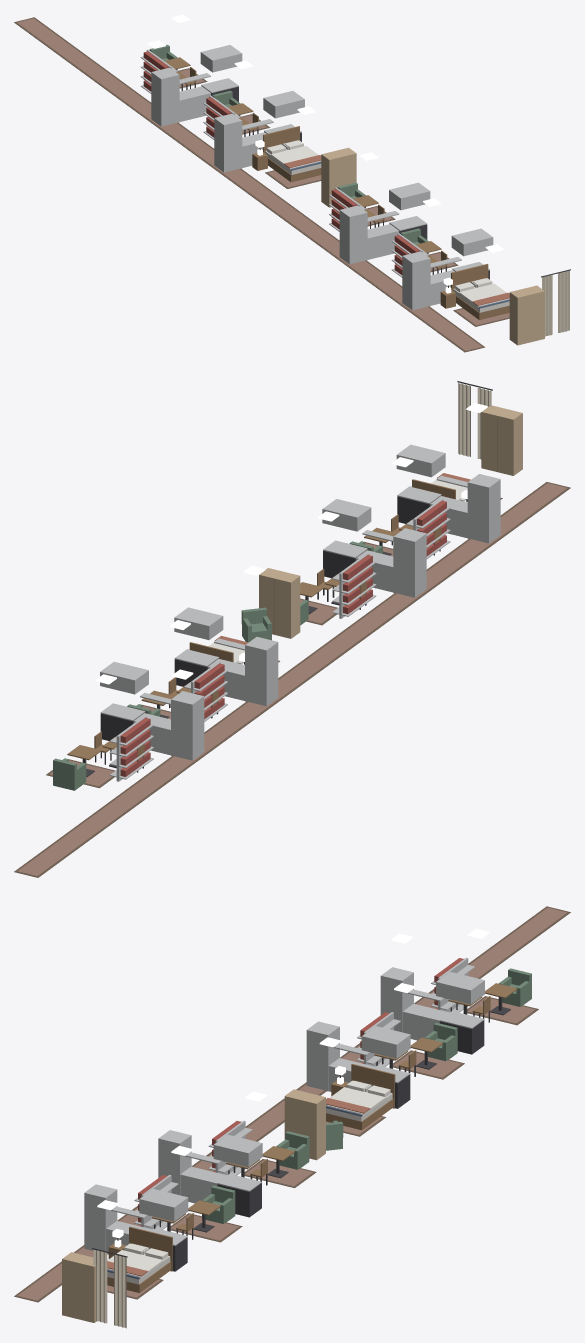
File: fine-s4.glb
3 views of the same model, one above another, from view 1: azimuth 30°, elevation 25°; view 2: azimuth 150°, elevation 25°; view 3: azimuth 330°, elevation 25° (orthographic). The views are drawn at different scales.
Parts seen in each view (by area): view 1: soft-s4, dresser.011, fridge.009, fridge.010, fridge.011, fridge.008, dresser.010, bed-frame.011, range.008, range.010, bed-frame.010, kitchen-counter.010 (+9 smaller); view 2: soft-s4, dresser.011, dresser.010, fridge.011, fridge.008, fridge.009, fridge.010, range.010, range.008, range.011, range.009, shelving.009 (+9 smaller); view 3: soft-s4, range.008, range.010, dresser.011, dresser.010, bed-frame.010, range.009, range.011, fridge.009, fridge.011, bed-frame.011, fridge.010 (+13 smaller).
Boxes of the visible parts, box(x1,y1,x2,y2) form: soft-s4: box(14, 17, 570, 352); dresser.011: box(509, 285, 544, 345); fridge.009: box(214, 113, 242, 172); fridge.010: box(339, 205, 367, 264); fridge.011: box(402, 251, 430, 310); fridge.008: box(151, 67, 179, 126); dresser.010: box(321, 147, 356, 207); bed-frame.011: box(451, 264, 509, 319); range.008: box(200, 45, 242, 101); range.010: box(389, 182, 430, 239); bed-frame.010: box(263, 126, 321, 182); kitchen-counter.010: box(367, 211, 399, 259); soft-s4: box(14, 381, 570, 877); dresser.011: box(481, 405, 522, 475); dresser.010: box(259, 568, 300, 638); fridge.011: box(467, 474, 500, 543); fridge.008: box(171, 691, 204, 760); fridge.009: box(245, 637, 278, 706); fridge.010: box(393, 528, 426, 597); range.010: box(322, 499, 371, 578); range.008: box(100, 661, 148, 740); range.011: box(396, 444, 445, 523); range.009: box(174, 607, 223, 686); shelving.009: box(109, 716, 153, 781); soft-s4: box(14, 906, 570, 1328); range.008: box(436, 971, 484, 1054); range.010: box(213, 1134, 262, 1217); dresser.011: box(62, 1252, 96, 1322); dresser.010: box(284, 1089, 325, 1160); bed-frame.010: box(326, 1064, 395, 1130); range.009: box(361, 1026, 410, 1108); range.011: box(139, 1189, 188, 1271); fridge.009: box(306, 1021, 339, 1091); fridge.011: box(84, 1184, 117, 1250); bed-frame.011: box(107, 1226, 172, 1292); fridge.010: box(158, 1130, 191, 1195).
Size of the model in its own units: 4.43 by 3.07 by 34.73.
